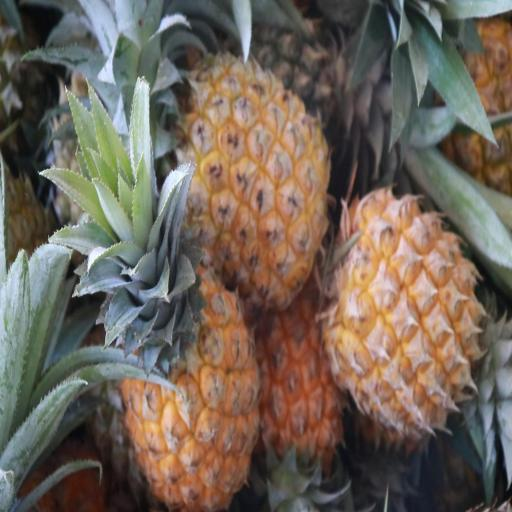Pineapple - v8 v1: (120, 199, 259, 512), (176, 54, 331, 311), (331, 191, 483, 440), (259, 312, 346, 512)
